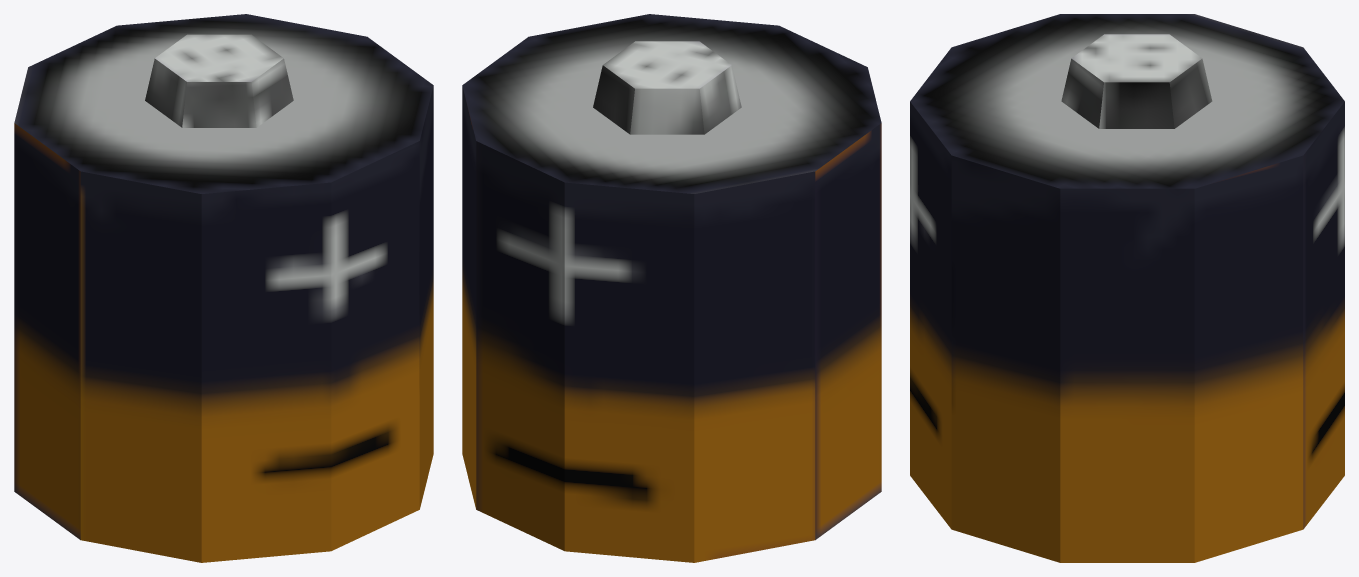
Rendered from PowerBattery_Big.fbx.
The picture shows the model from 3 angles, left to right: view 1: azimuth 30°, elevation 25°; view 2: azimuth 150°, elevation 25°; view 3: azimuth 270°, elevation 25°; orthographic projection.
Parts seen in each view (by area): view 1: Battery_Heavy; view 2: Battery_Heavy; view 3: Battery_Heavy.
Boxes of the visible parts, bbox=[...] form: Battery_Heavy: bbox=[14, 14, 433, 562]; Battery_Heavy: bbox=[462, 14, 881, 562]; Battery_Heavy: bbox=[910, 14, 1344, 562].
Bounding box in the file's own units: 69.53 × 77.37 × 73.11.
1 material, 1 textured.
